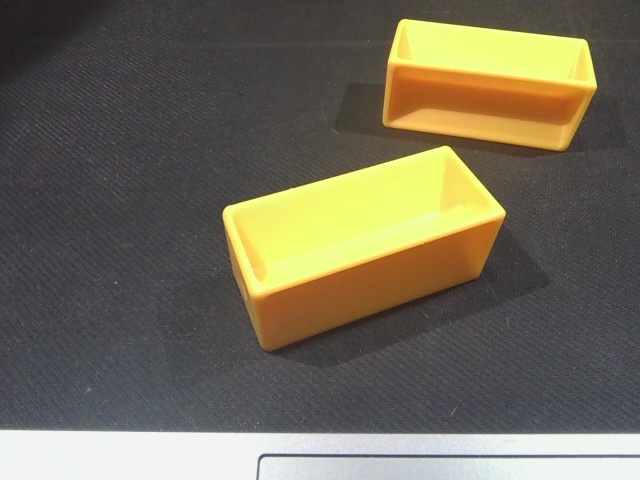YellowSample: (205, 141, 512, 355), (380, 6, 598, 152)
